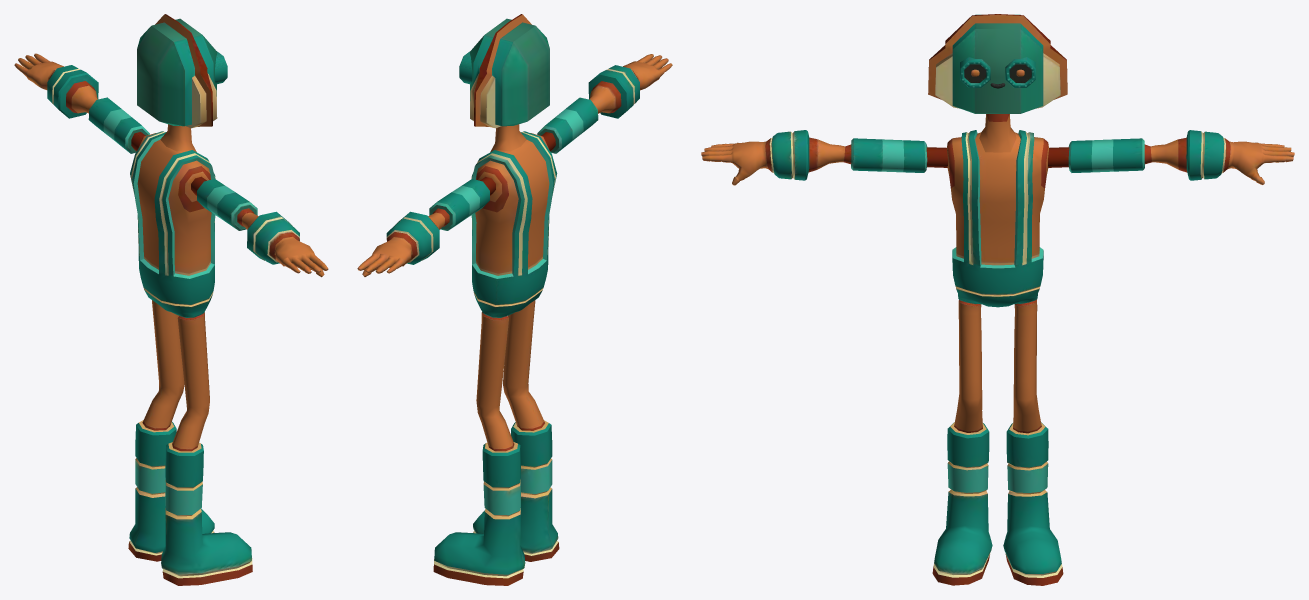
The model's file is lalobot.glb.
3 views of the same model, side by side, from view 1: azimuth 30°, elevation 25°; view 2: azimuth 150°, elevation 25°; view 3: azimuth 270°, elevation 25° (orthographic).
Parts seen in each view (by area): view 1: _100Avatars_115_LaloBOT; view 2: _100Avatars_115_LaloBOT; view 3: _100Avatars_115_LaloBOT.
Boxes of the visible parts, bbox=[...] form: _100Avatars_115_LaloBOT: bbox=[14, 14, 328, 585]; _100Avatars_115_LaloBOT: bbox=[357, 14, 672, 585]; _100Avatars_115_LaloBOT: bbox=[701, 14, 1294, 585].
Bounding box in the file's own units: 0.8096 × 4.8 × 4.74.
Materials: 1 (1 with a texture image).
